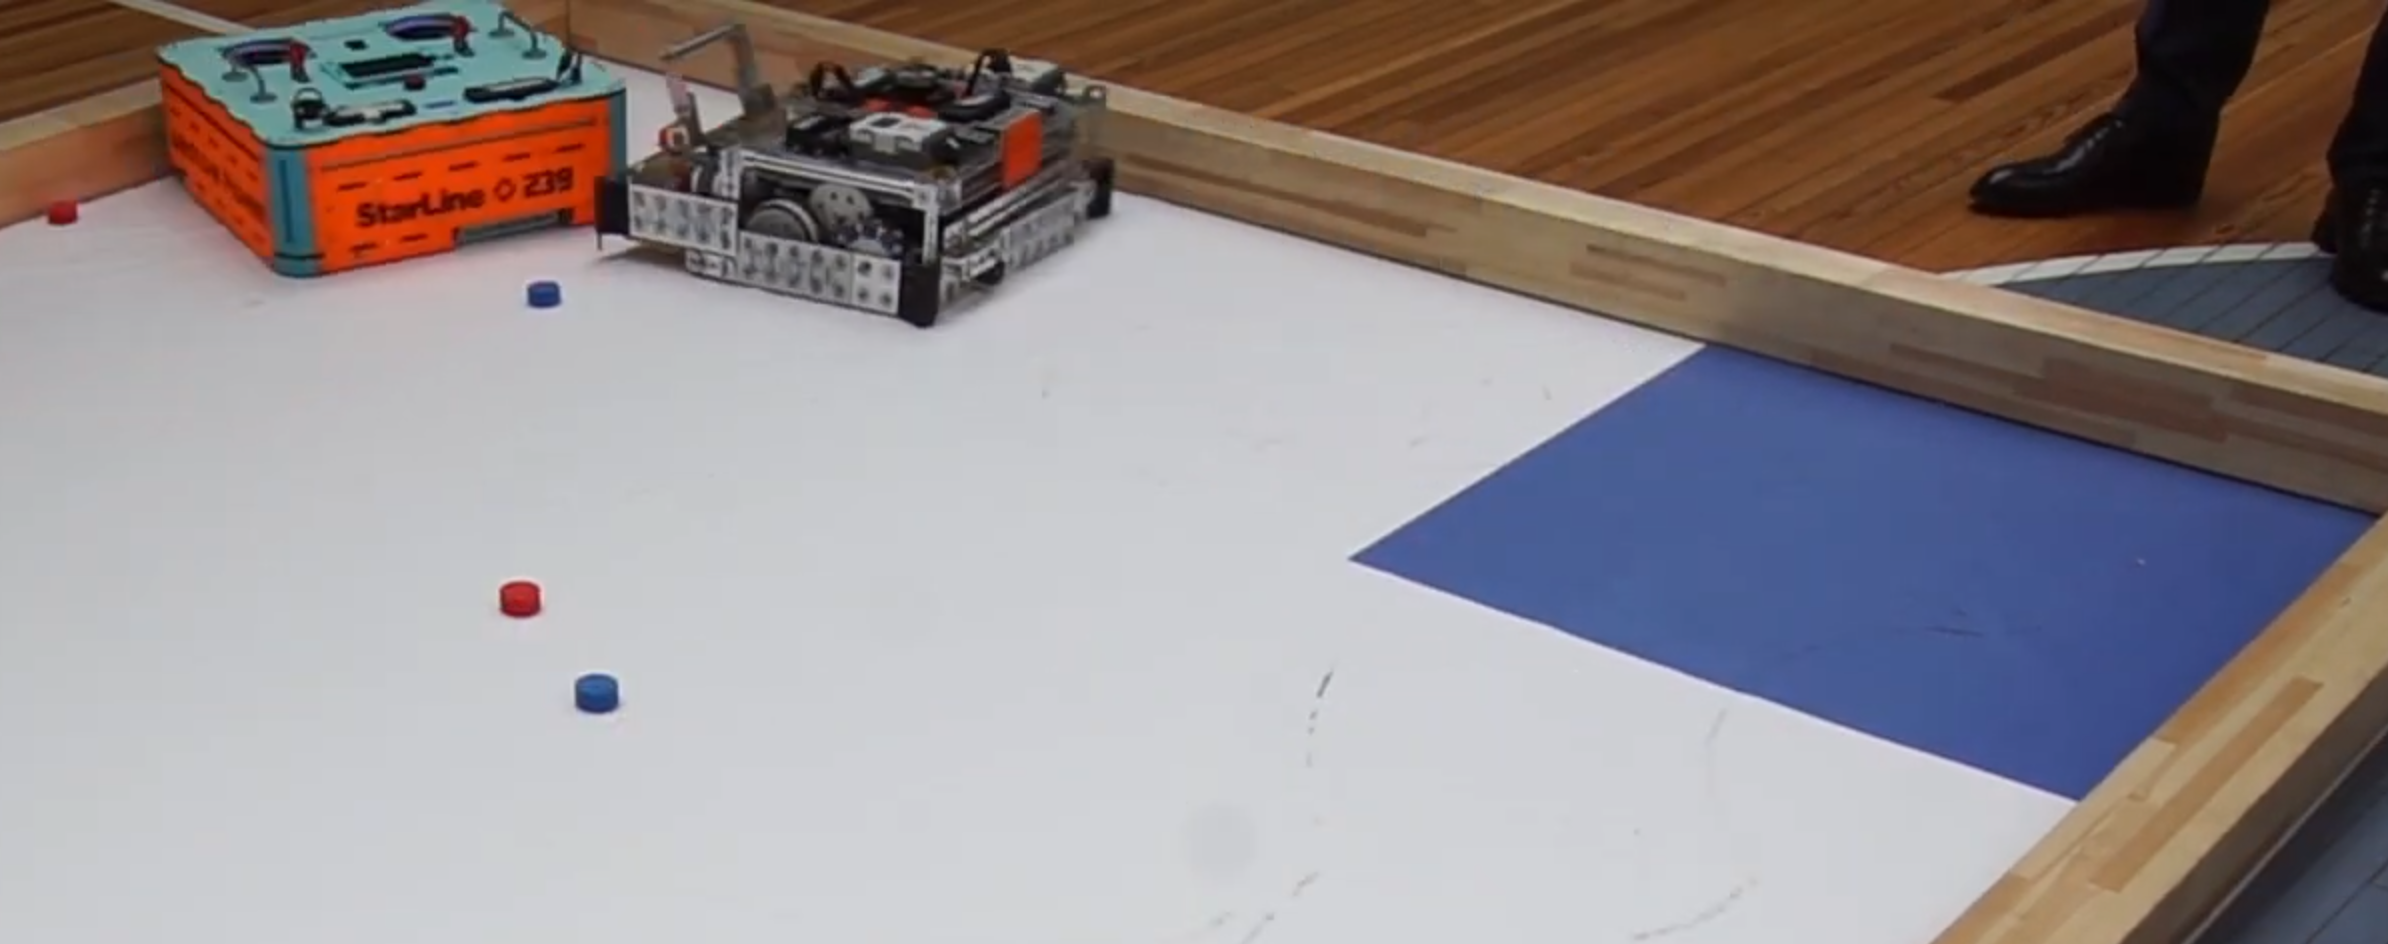blue_base: (1346, 340, 2380, 807)
blue_puck: (571, 675, 626, 713), (525, 280, 562, 312)
red_puck: (498, 579, 542, 621), (47, 196, 79, 224)
